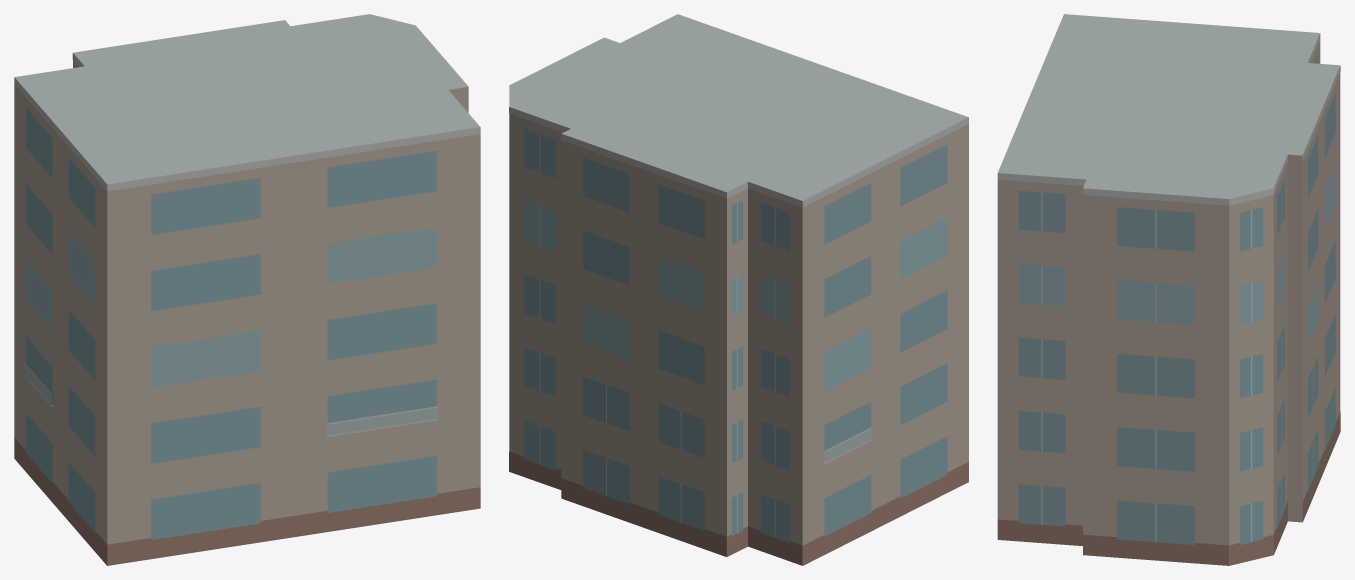
The model's file is survey-upis-32658973.glb.
3 renders of one model, left to right at view 1: azimuth 30°, elevation 25°; view 2: azimuth 150°, elevation 25°; view 3: azimuth 270°, elevation 25°, orthographic. The views are drawn at different scales.
Parts seen in each view (by area): view 1: survey-upis-32658973.tmp; view 2: survey-upis-32658973.tmp; view 3: survey-upis-32658973.tmp.
Boxes of the visible parts, x1,y1,x2,y2 form: survey-upis-32658973.tmp: (14,14,480,565); survey-upis-32658973.tmp: (509,14,968,565); survey-upis-32658973.tmp: (997,14,1340,565).
Size of the model in its own units: 14.62 by 13.5 by 11.44.
